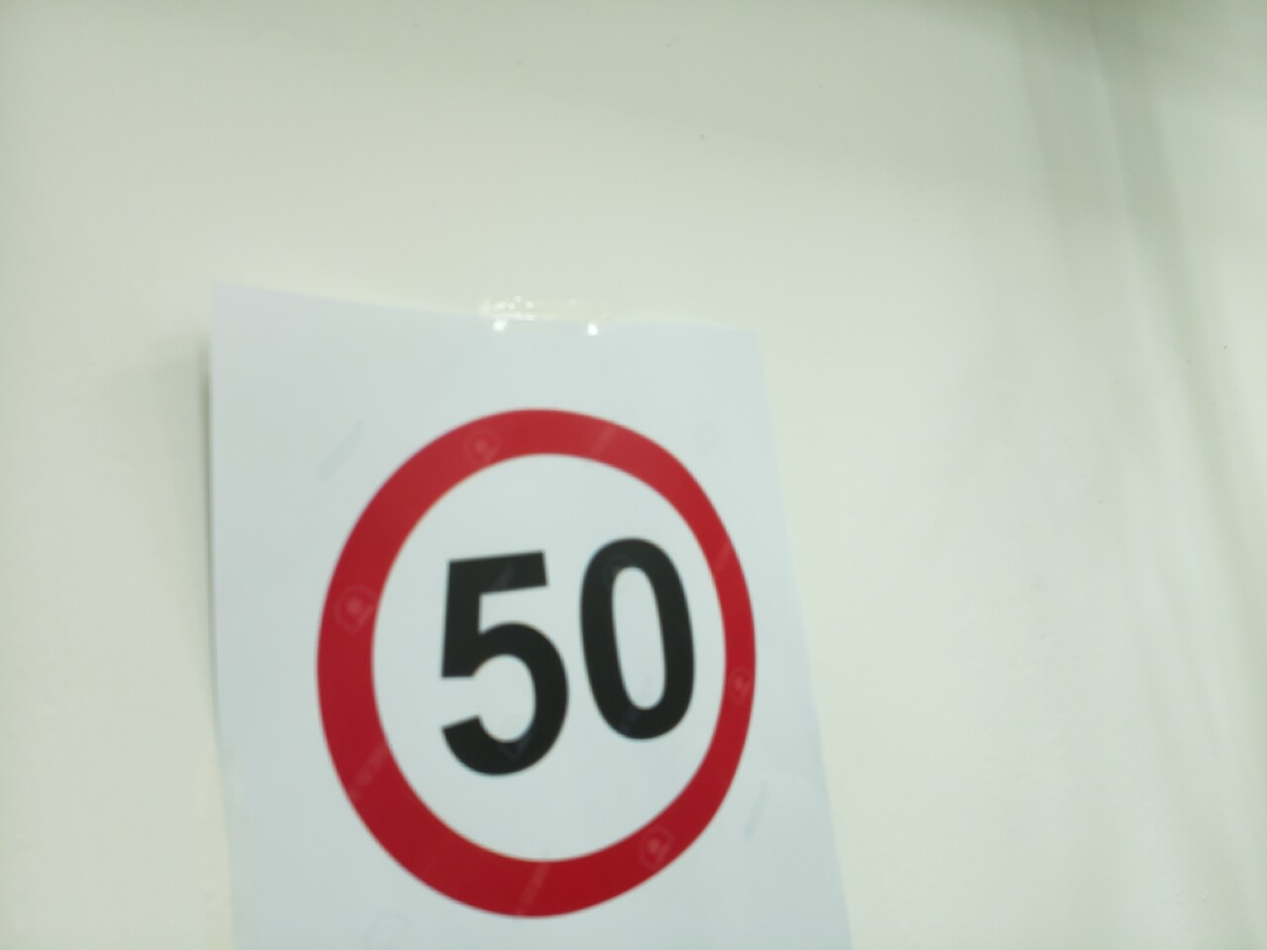speed_50: (304, 396, 769, 931)
